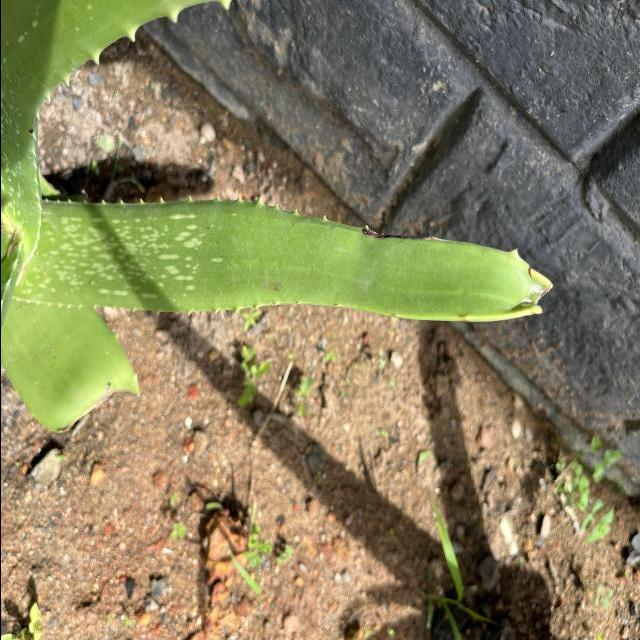Aloe vera: (24, 188, 560, 328)
